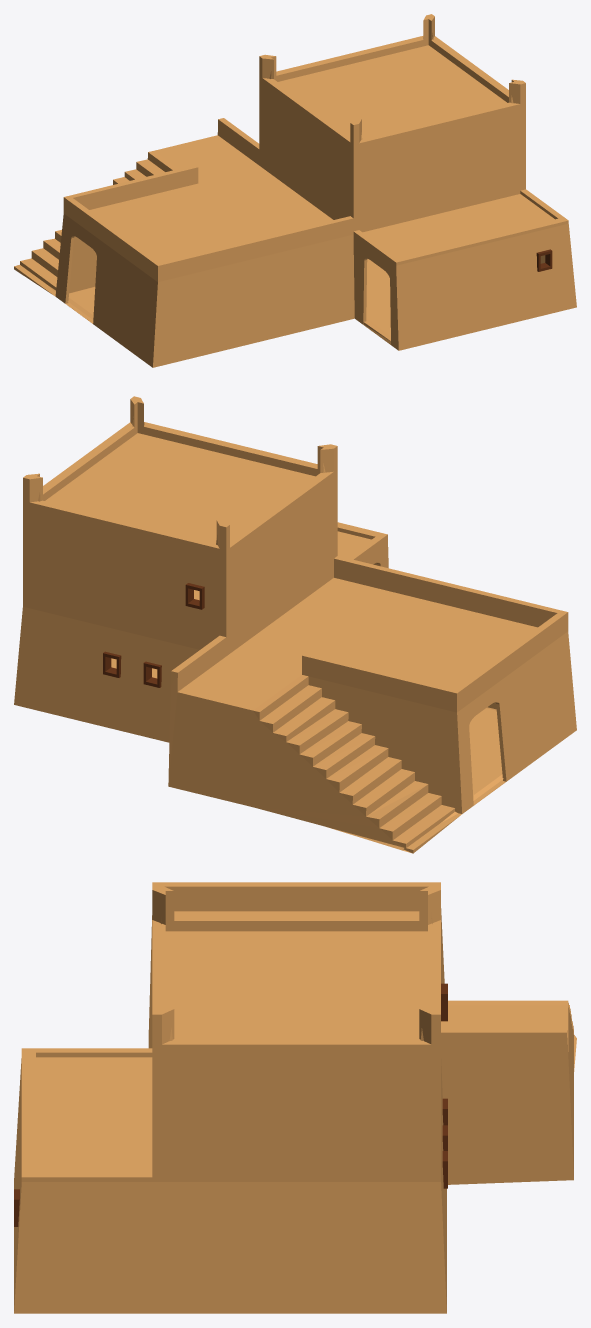
Rendered from Egyptian house 3.fbx.
The picture shows the model from 3 angles, top to bottom: view 1: azimuth 30°, elevation 25°; view 2: azimuth 150°, elevation 25°; view 3: azimuth 270°, elevation 25°; orthographic projection. The views are drawn at different scales.
Parts seen in each view (by area): view 1: Egyptian house Var3; view 2: Egyptian house Var3; view 3: Egyptian house Var3.
Part boxes in pixels (x1,y1,x2,y2): Egyptian house Var3: (14,14,576,367); Egyptian house Var3: (14,396,576,853); Egyptian house Var3: (14,882,576,1313).
Size of the model in its own units: 1299 by 639 by 1088.
